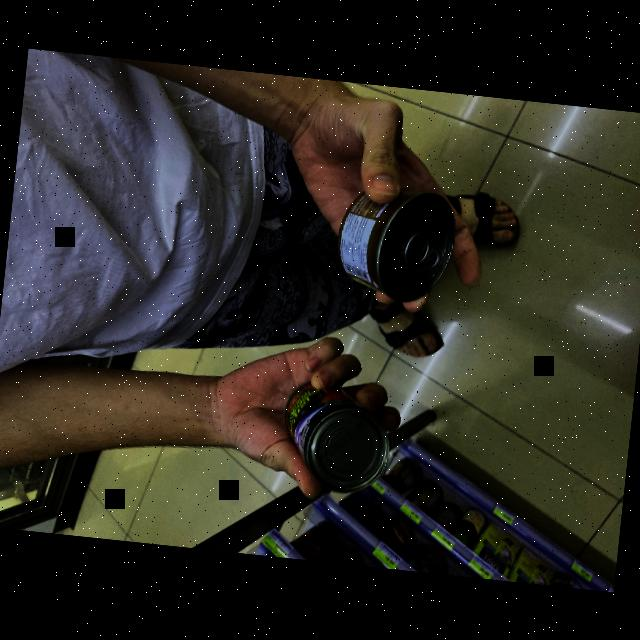can: (328, 162, 470, 318), (264, 370, 400, 502)
